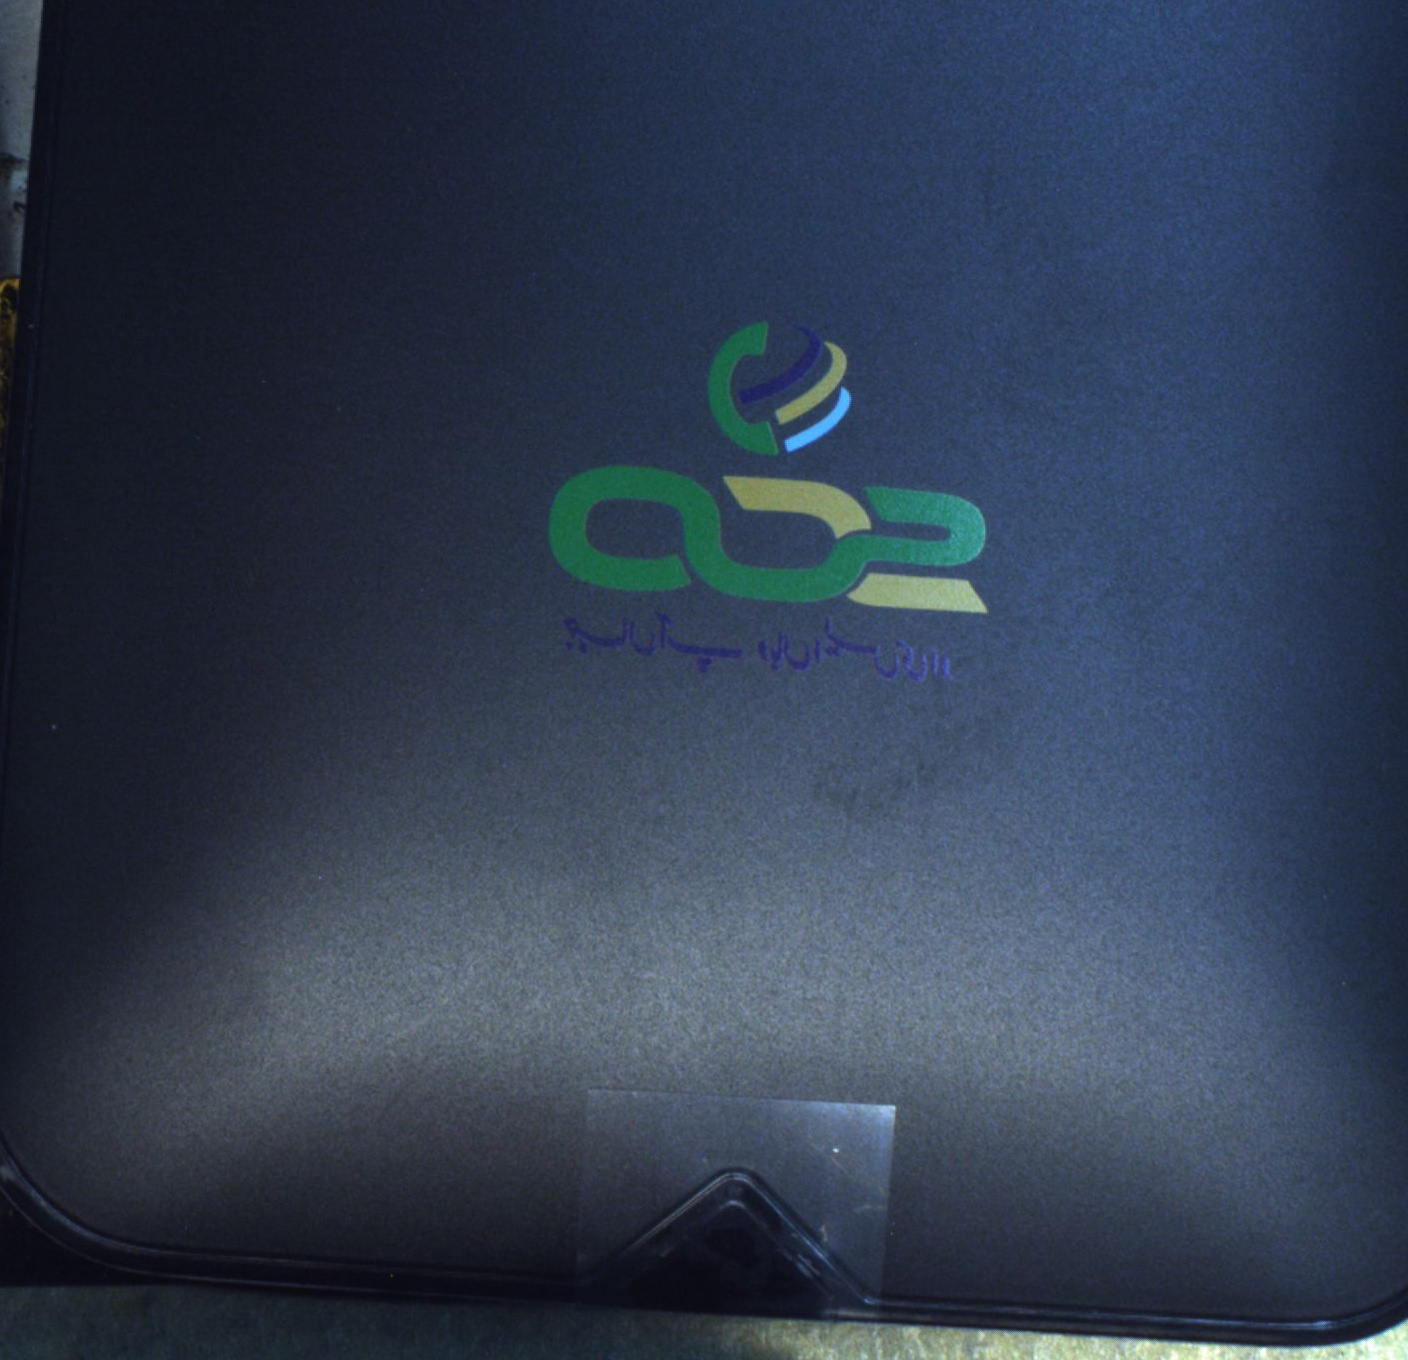BZ_HG680PSCOFirbeHome: (525, 293, 1025, 698)
